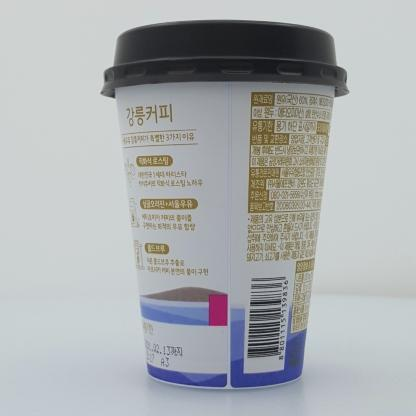----------250ML: (100, 19, 349, 390)
